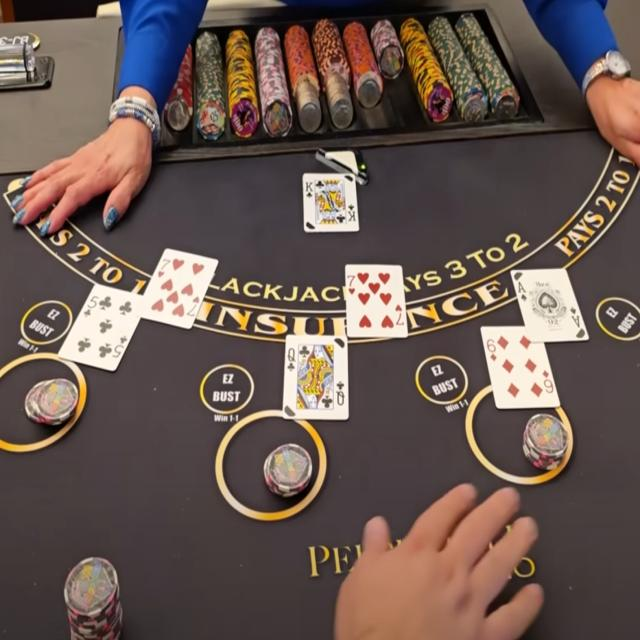5: (87, 294, 99, 310)
6: (486, 337, 497, 353)
7: (160, 257, 171, 270), (346, 274, 356, 287)
A: (516, 280, 527, 294)
K: (304, 180, 314, 193)
Q: (286, 347, 298, 362)
